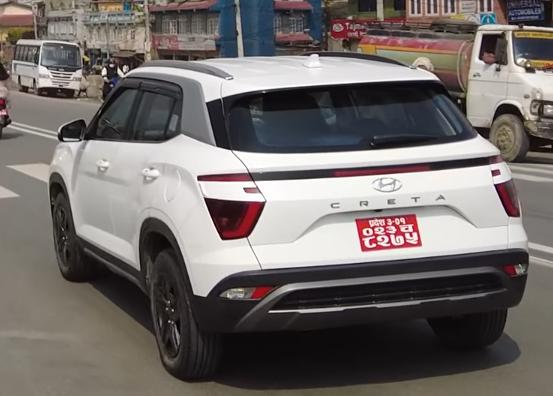bus: (12, 36, 87, 100)
car: (44, 50, 532, 373)
